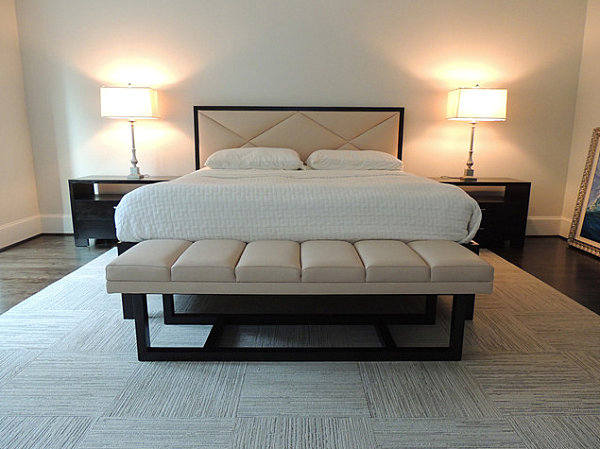bed: (119, 109, 483, 362)
bench: (106, 240, 495, 363)
lamp: (443, 89, 507, 182), (98, 86, 161, 179)
night stand: (64, 175, 120, 249), (479, 179, 532, 250)
